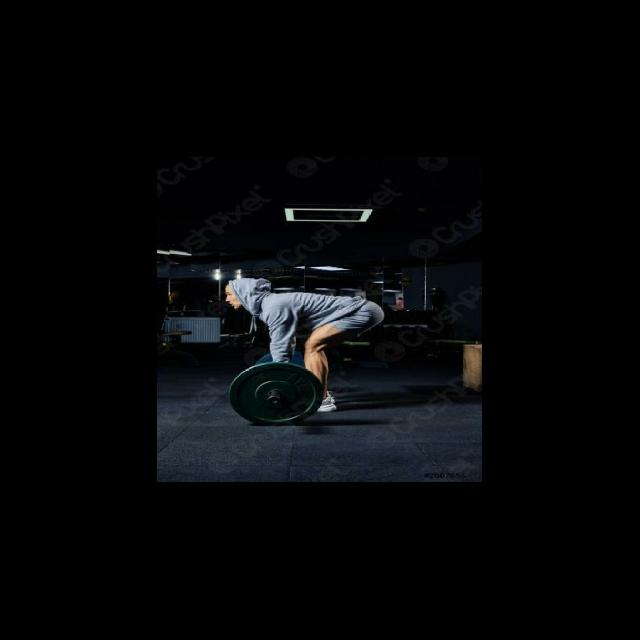barbell: (224, 358, 327, 428)
